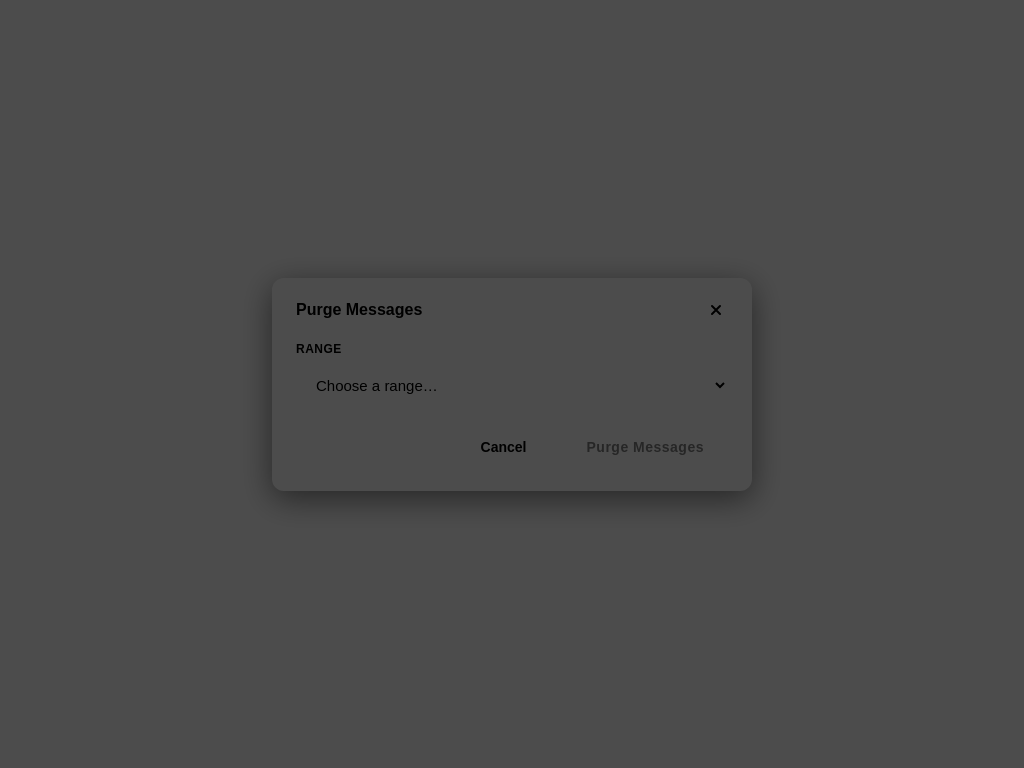
Scenario: PurgeMessagesModal — soft-lock stage › a flagged 403 the fields cannot answer ends in a result that says nothing was purged
Select "Last 7 days" in the dropdown labelled "Range": (512, 385) 296,364 -> 728,406
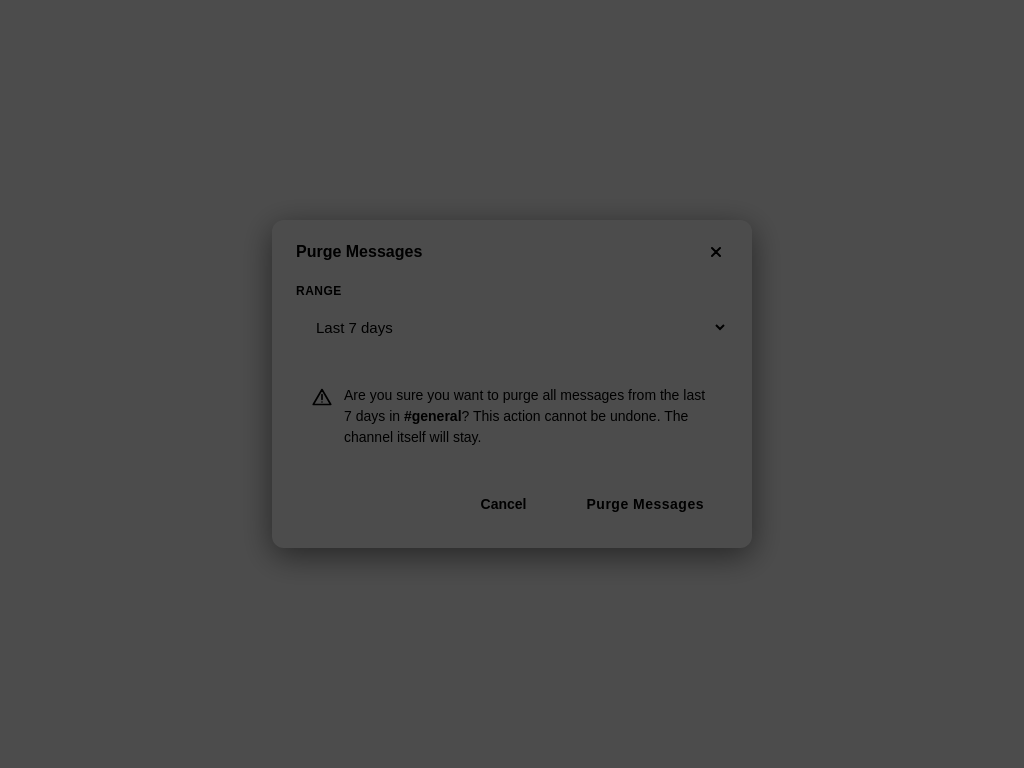
Click the button "Purge Messages": click(645, 504) 562,484 -> 728,524
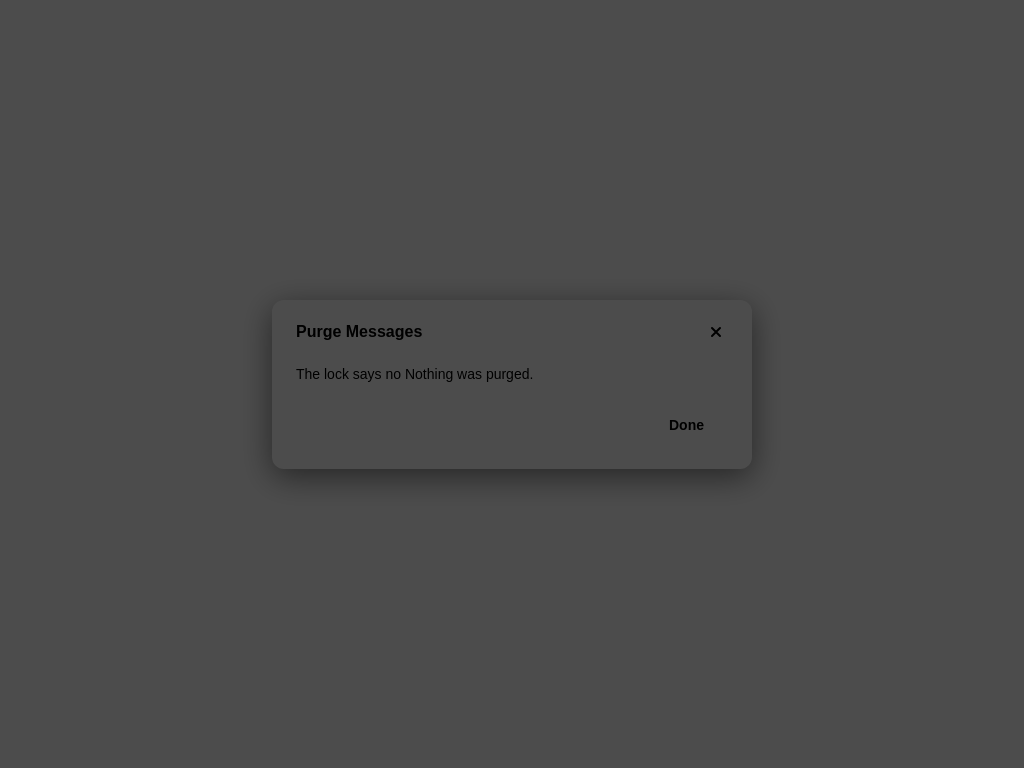
Expected: the message reads "The lock says no Nothing was purged.", 296,366 -> 533,382
